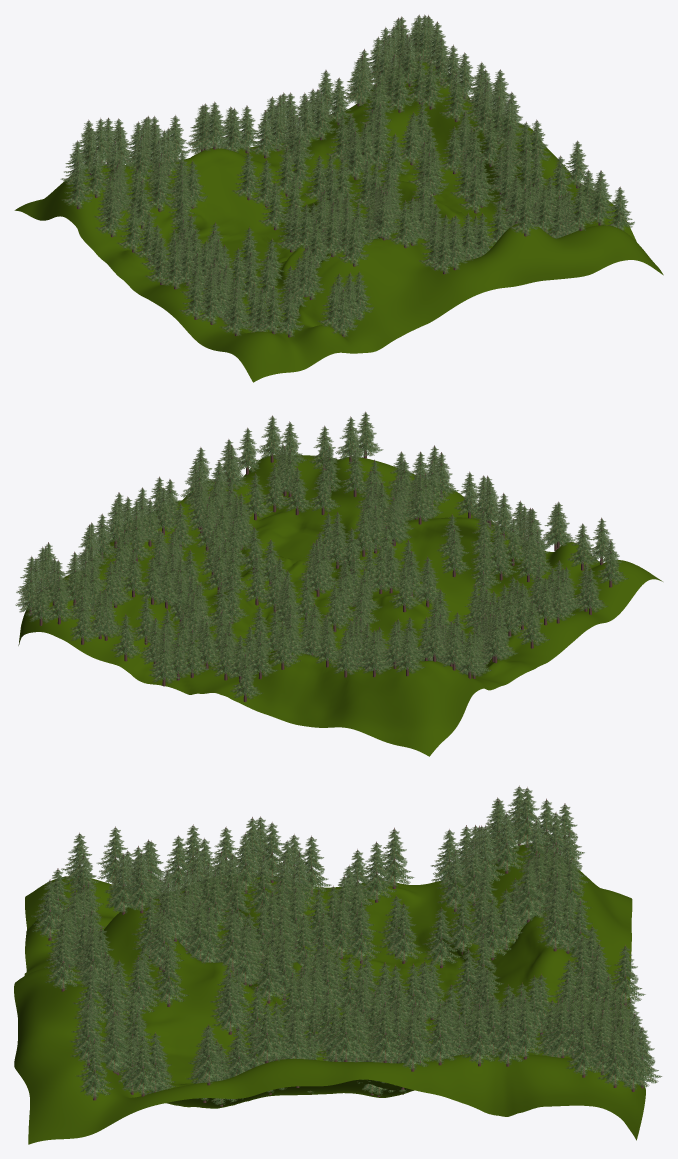
The model's file is forestModel_tree.glb.
3 renders of one model, top to bottom at view 1: azimuth 30°, elevation 25°; view 2: azimuth 150°, elevation 25°; view 3: azimuth 270°, elevation 25°, orthographic. The views are drawn at different scales.
Parts seen in each view (by area): view 1: OK_TREE, Cube.001 (×82); view 2: Cube.001 (×95), OK_TREE; view 3: Cube.001 (×138), OK_TREE.
Part boxes in pixels (left/top/right/bottom): OK_TREE: left=14, top=61, right=663, bottom=382; Cube.001 (×82): left=61, top=14, right=634, bottom=337; Cube.001 (×95): left=15, top=411, right=628, bottom=702; OK_TREE: left=18, top=455, right=662, bottom=756; Cube.001 (×138): left=31, top=787, right=661, bottom=1100; OK_TREE: left=14, top=844, right=645, bottom=1144.
Bounding box in the file's own units: 205 × 58.65 × 210.
3 materials, 1 textured.
